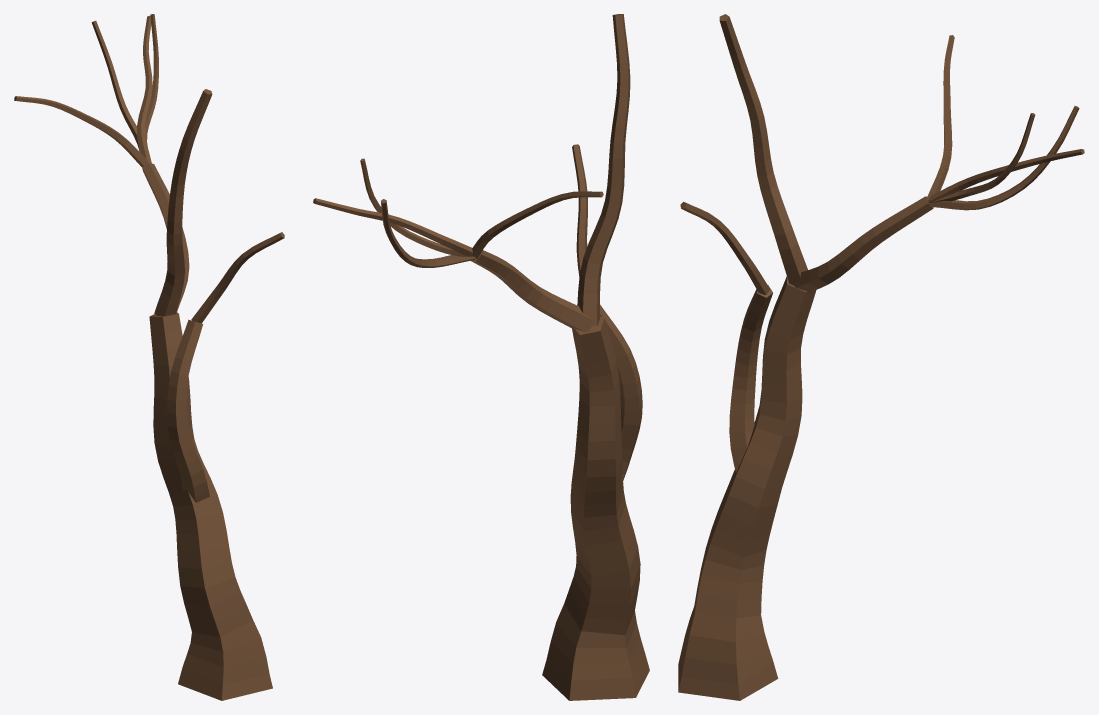
Rendered from gnarled_tree.glb.
The picture shows the model from 3 angles, left to right: view 1: azimuth 30°, elevation 25°; view 2: azimuth 150°, elevation 25°; view 3: azimuth 270°, elevation 25°; orthographic projection. The views are drawn at different scales.
Visible parts, largest first — view 1: three-low-poly gnarled_tree; view 2: three-low-poly gnarled_tree; view 3: three-low-poly gnarled_tree.
Part boxes in pixels (x1,y1,x2,y2): three-low-poly gnarled_tree: (14,14,284,700); three-low-poly gnarled_tree: (313,14,649,700); three-low-poly gnarled_tree: (678,14,1084,700).
Size of the model in its own units: 1.62 by 4.69 by 2.65.
